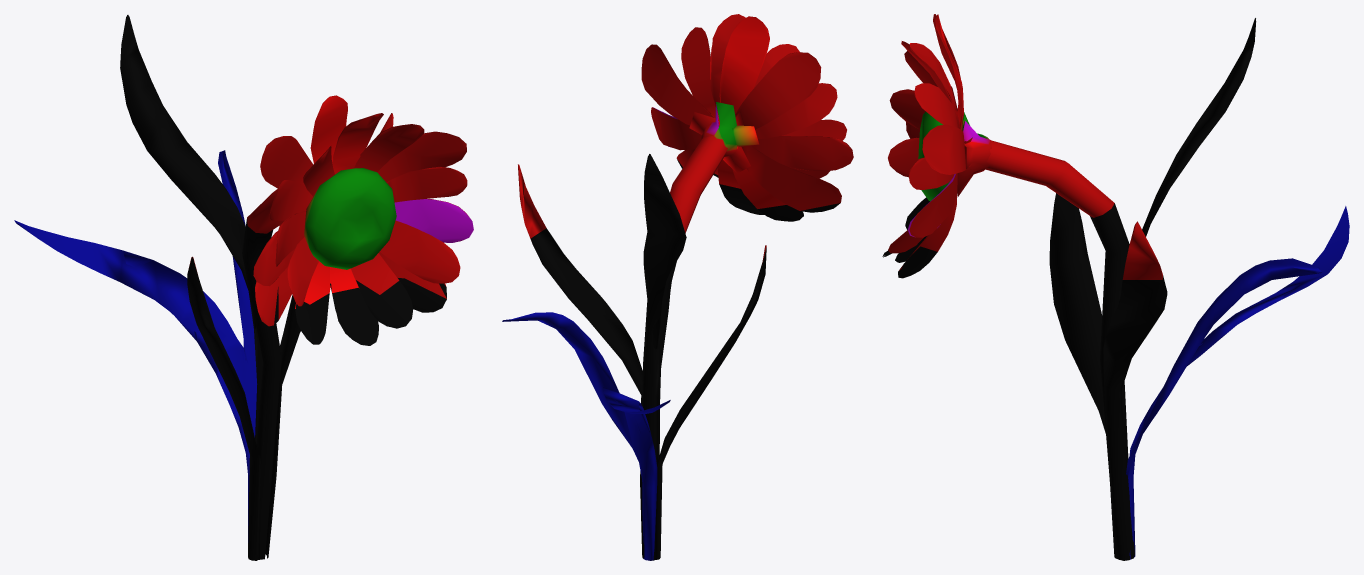
Rendered from flower_03_daisy.glb.
3 renders of one model, left to right at view 1: azimuth 30°, elevation 25°; view 2: azimuth 150°, elevation 25°; view 3: azimuth 270°, elevation 25°, orthographic. The views are drawn at different scales.
Visible parts, largest first — view 1: Flower_Petals, Flower_Leaves, Flower_Stem; view 2: Flower_Petals, Flower_Leaves, Flower_Stem; view 3: Flower_Leaves, Flower_Petals, Flower_Stem.
Boxes of the visible parts, <box> form: Flower_Petals: <box>188,95,473,326</box>; Flower_Leaves: <box>14,15,300,560</box>; Flower_Stem: <box>242,219,446,559</box>; Flower_Petals: <box>518,14,853,265</box>; Flower_Leaves: <box>502,154,766,560</box>; Flower_Stem: <box>658,159,840,459</box>; Flower_Leaves: <box>1049,18,1349,560</box>; Flower_Petals: <box>888,14,1162,279</box>; Flower_Stem: <box>882,197,1129,476</box>.
Bounding box in the file's own units: 0.7194 × 1.34 × 1.07.
